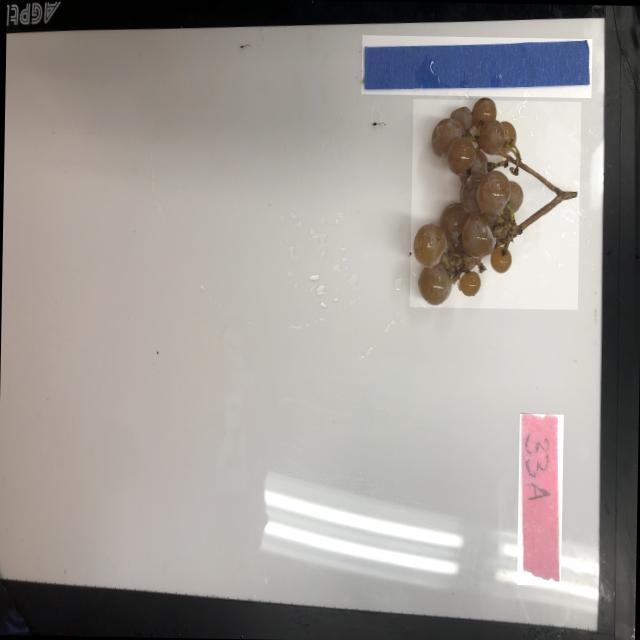grape_cluster: (408, 98, 580, 310)
index: (516, 414, 562, 586)
measure_label: (360, 34, 591, 98)
